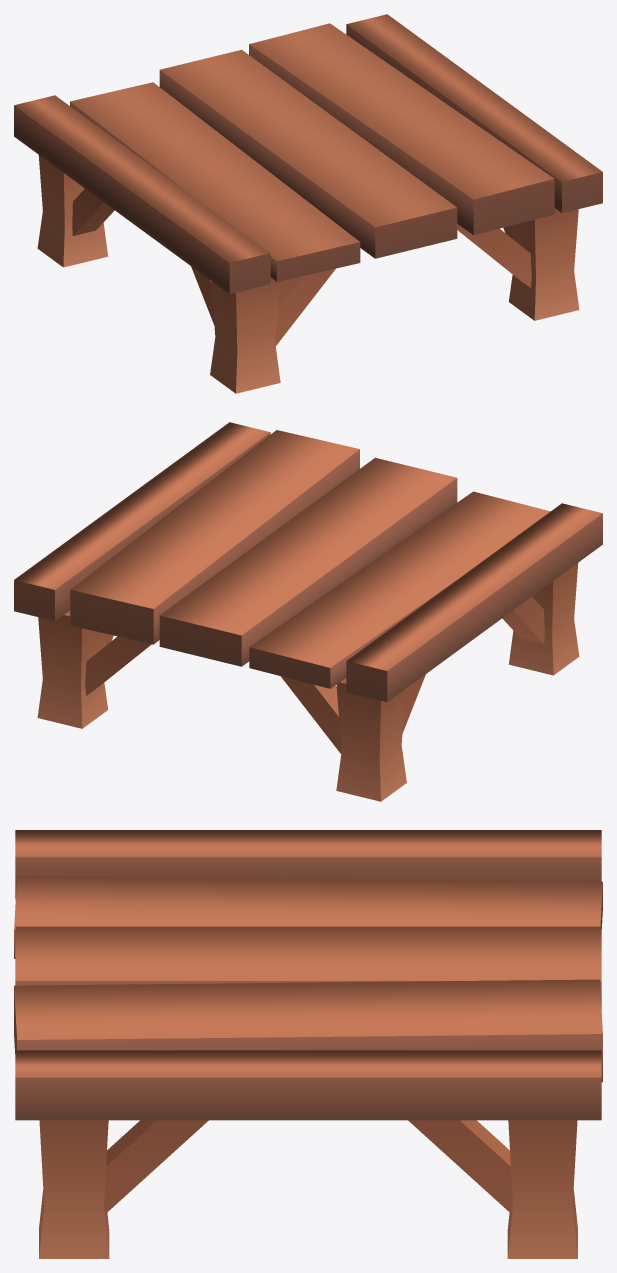
The model's file is structure-platform.glb.
The picture shows the model from 3 angles, top to bottom: view 1: azimuth 30°, elevation 25°; view 2: azimuth 150°, elevation 25°; view 3: azimuth 270°, elevation 25°; orthographic projection. The views are drawn at different scales.
Visible parts, largest first — view 1: structure-platform; view 2: structure-platform; view 3: structure-platform.
Boxes of the visible parts, box(x1,y1,x2,y2) form: structure-platform: box(14, 14, 602, 393); structure-platform: box(14, 422, 602, 801); structure-platform: box(14, 830, 602, 1258).
Size of the model in its own units: 2.5 by 0.9279 by 2.51.
Materials: 1 (1 with a texture image).
